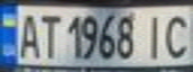1: (60, 11, 81, 58)
6: (96, 10, 121, 60)
8: (115, 10, 142, 61)
9: (78, 11, 100, 60)
A: (12, 10, 42, 60)
C: (160, 10, 193, 60)
I: (139, 10, 169, 60)
T: (36, 10, 60, 60)
